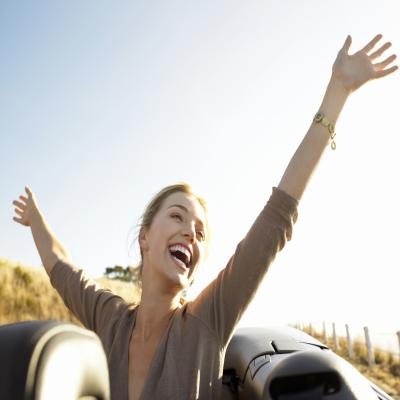happy: (136, 188, 213, 295)
